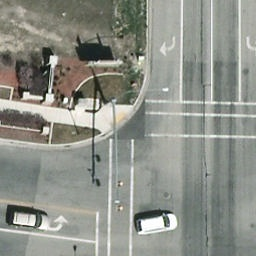car: (131, 214, 179, 235), (12, 210, 50, 235)
